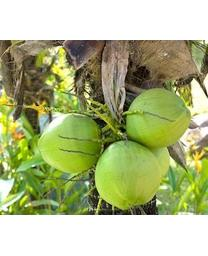coconut: (34, 107, 105, 178), (93, 139, 163, 209), (128, 88, 191, 149)
